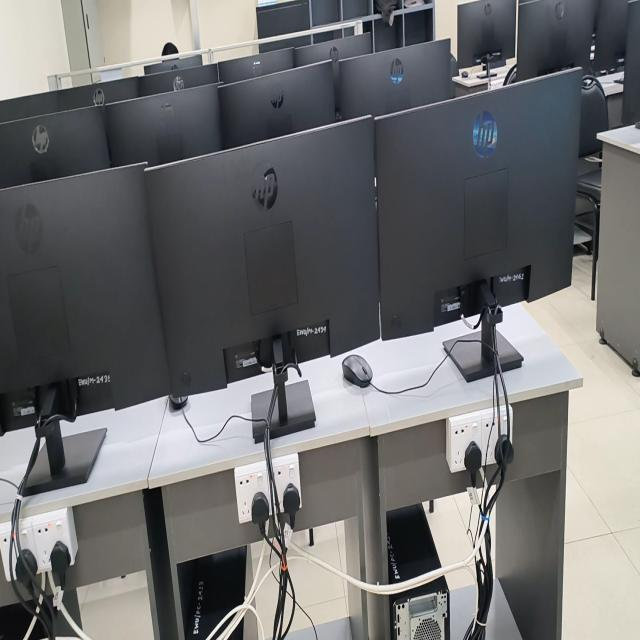Chair: (575, 72, 609, 299)
Cpu: (186, 546, 247, 639), (387, 504, 441, 583), (390, 577, 450, 639), (245, 614, 253, 619)
Monitor: (144, 118, 379, 395), (375, 69, 581, 340), (0, 164, 169, 408), (219, 60, 337, 148), (105, 84, 222, 168), (336, 40, 454, 119), (0, 107, 111, 188), (518, 0, 594, 79), (457, 0, 516, 68), (135, 56, 218, 96), (218, 47, 295, 84), (591, 0, 628, 74), (294, 33, 371, 67), (621, 0, 640, 126), (63, 78, 139, 108), (0, 91, 65, 123)
Mouse: (342, 354, 372, 388)
